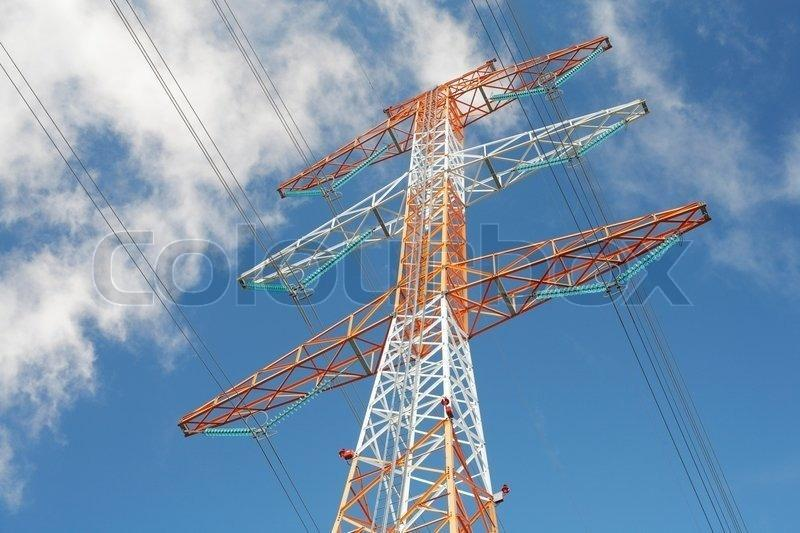power_tower: (177, 33, 713, 533)
